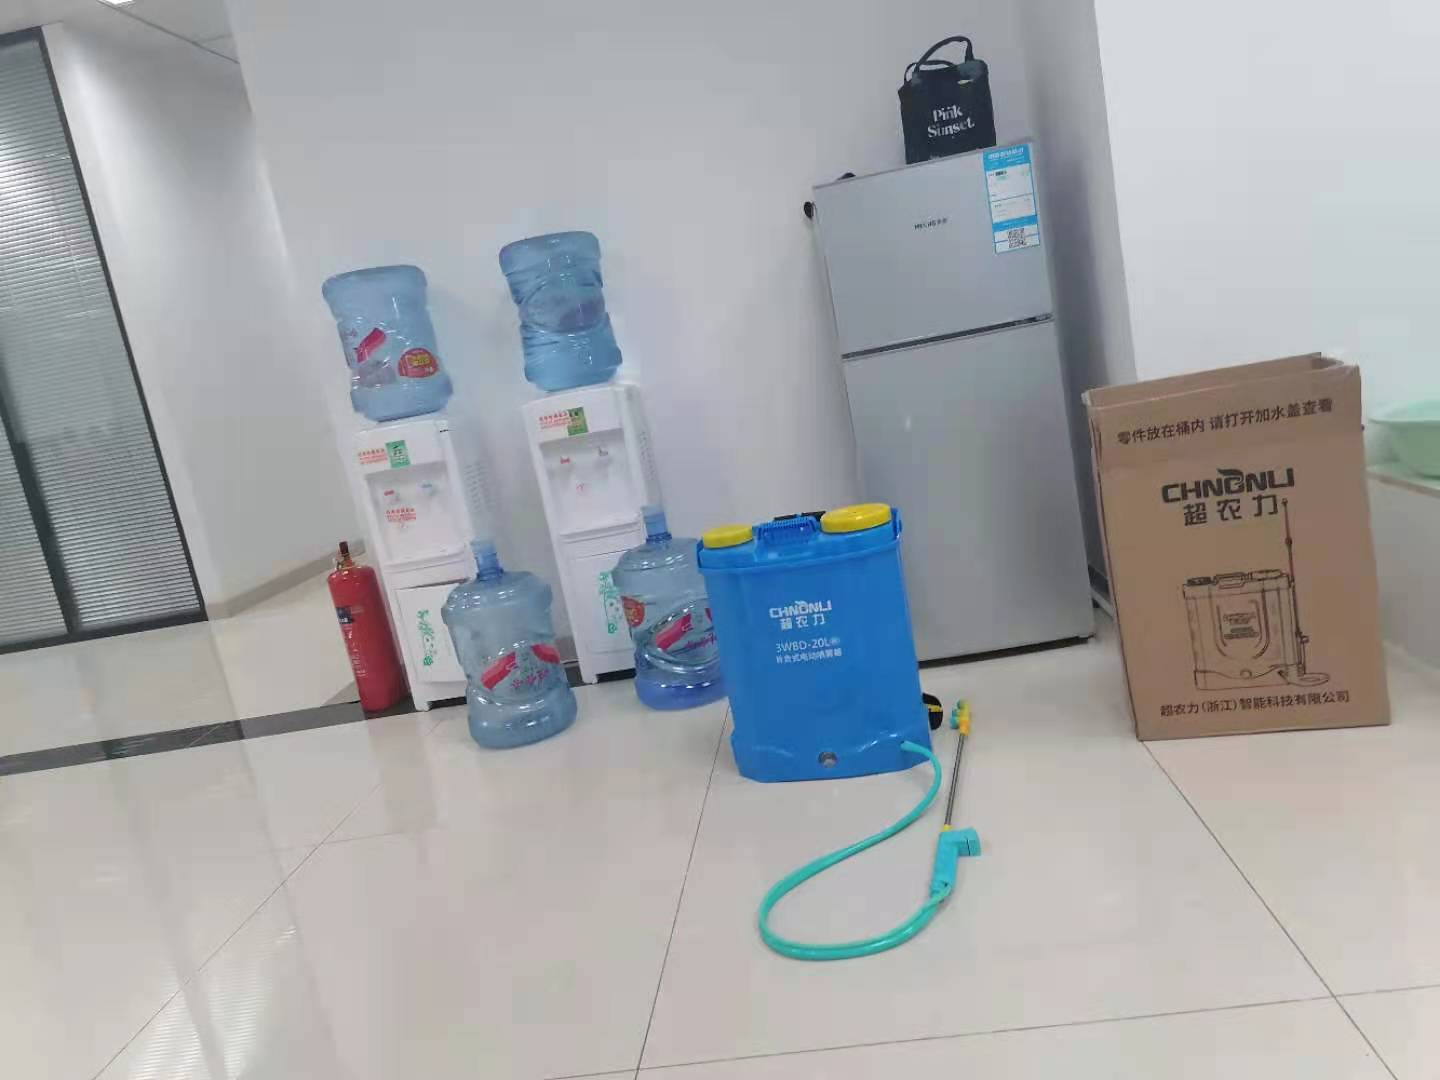berrl: (689, 498, 949, 785)
